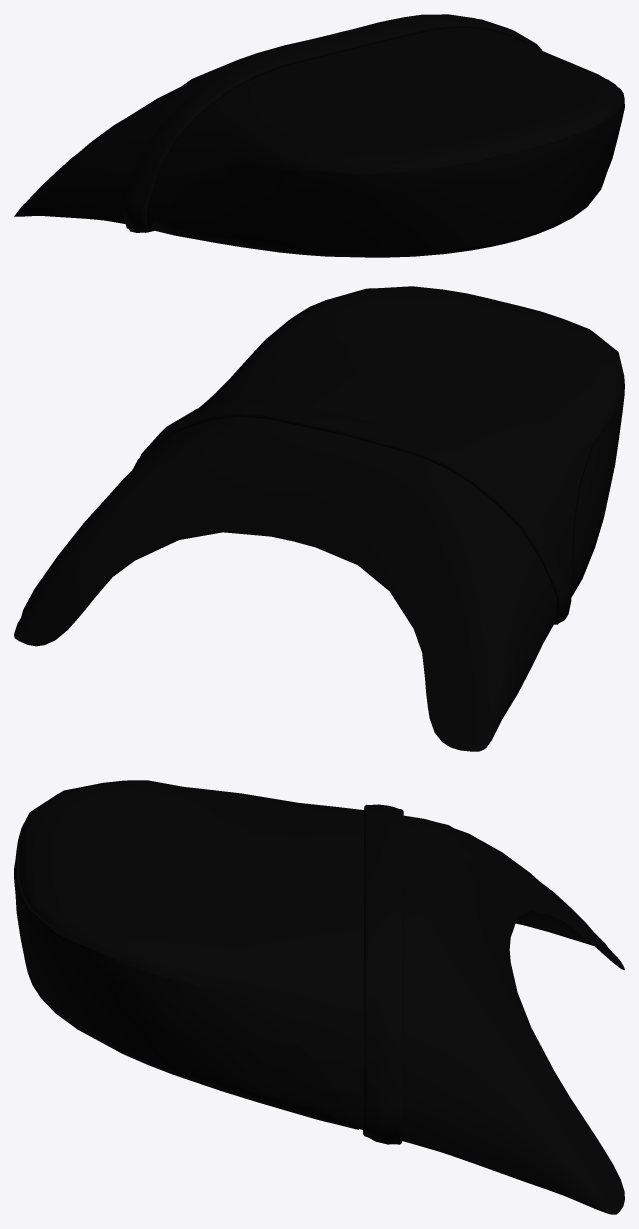
Rendered from PassengerSeat_GEL_LEATHER_2K.glb.
3 renders of one model, top to bottom at view 1: azimuth 30°, elevation 25°; view 2: azimuth 150°, elevation 25°; view 3: azimuth 270°, elevation 25°, orthographic. The views are drawn at different scales.
Visible parts, largest first — view 1: PassengerSeat_GEL_LEATHER_2K, PassengerSeat_GEL_LEATHER_STRAP_2K; view 2: PassengerSeat_GEL_LEATHER_2K, PassengerSeat_GEL_LEATHER_STRAP_2K; view 3: PassengerSeat_GEL_LEATHER_2K, PassengerSeat_GEL_LEATHER_STRAP_2K.
Boxes of the visible parts, box(x1,y1,x2,y2) form: PassengerSeat_GEL_LEATHER_2K: box(14, 14, 624, 257); PassengerSeat_GEL_LEATHER_STRAP_2K: box(122, 14, 542, 232); PassengerSeat_GEL_LEATHER_2K: box(14, 286, 624, 751); PassengerSeat_GEL_LEATHER_STRAP_2K: box(132, 398, 571, 624); PassengerSeat_GEL_LEATHER_2K: box(14, 780, 624, 1214); PassengerSeat_GEL_LEATHER_STRAP_2K: box(363, 804, 403, 1144).
Bounding box in the file's own units: 0.3859 × 0.1602 × 0.3791.
3 materials, 3 textured.
